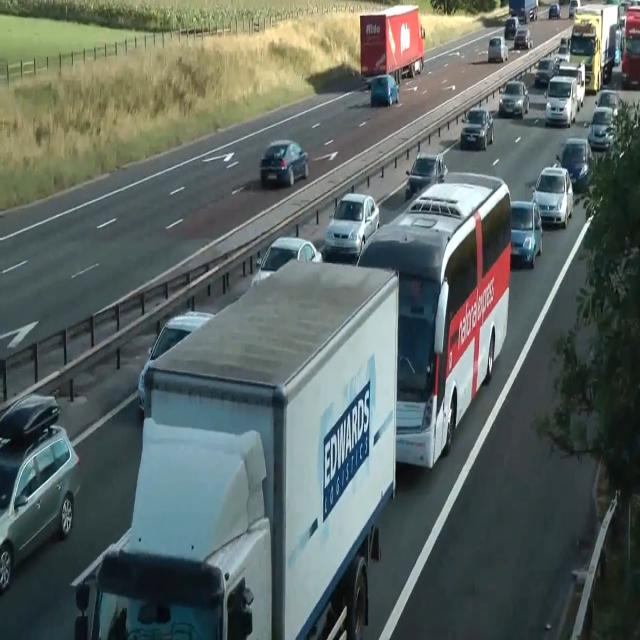bus: (0, 423, 80, 590), (137, 309, 215, 416), (0, 391, 60, 509), (251, 235, 323, 289), (324, 192, 380, 260), (0, 392, 60, 445), (532, 164, 574, 228), (260, 138, 308, 188), (554, 137, 594, 192), (510, 200, 542, 268), (405, 152, 448, 201), (460, 107, 494, 150), (588, 106, 618, 151), (498, 79, 530, 118), (369, 74, 399, 106), (594, 89, 622, 113), (535, 58, 557, 86), (488, 36, 508, 62), (514, 28, 532, 50), (505, 16, 519, 39), (554, 43, 570, 63), (568, 0, 580, 18), (548, 3, 560, 20), (614, 48, 620, 66)
car: (69, 257, 399, 638), (355, 170, 513, 470)
jeep: (70, 416, 272, 638), (544, 74, 578, 127)
minibus: (359, 4, 425, 86), (572, 2, 618, 84), (620, 7, 640, 89), (508, 0, 538, 23)
